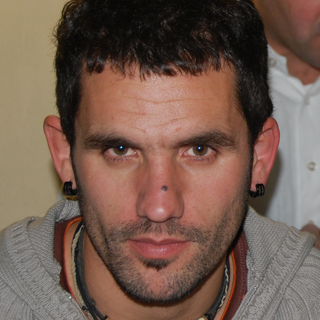eye: (94, 139, 146, 163), (177, 140, 224, 164)
